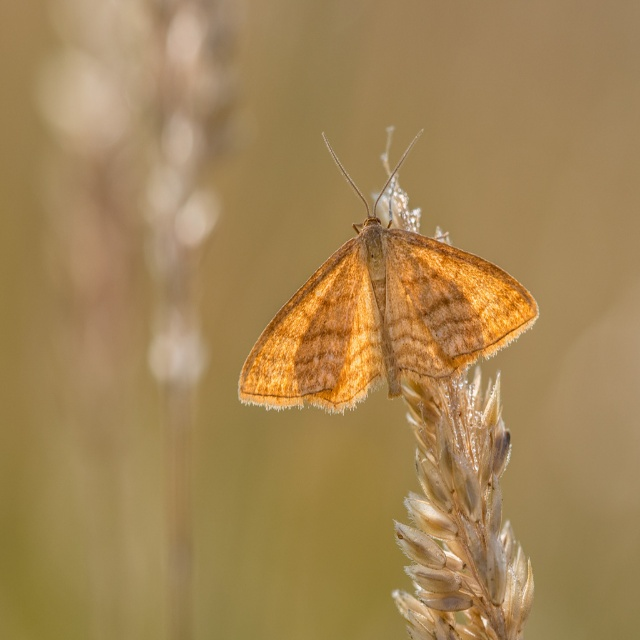Butterfly: (240, 128, 546, 457)
